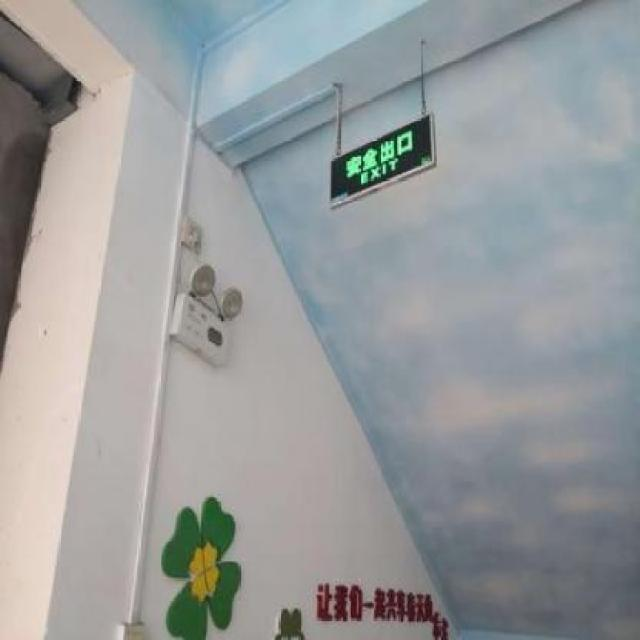exit_sign: (317, 115, 443, 212)
